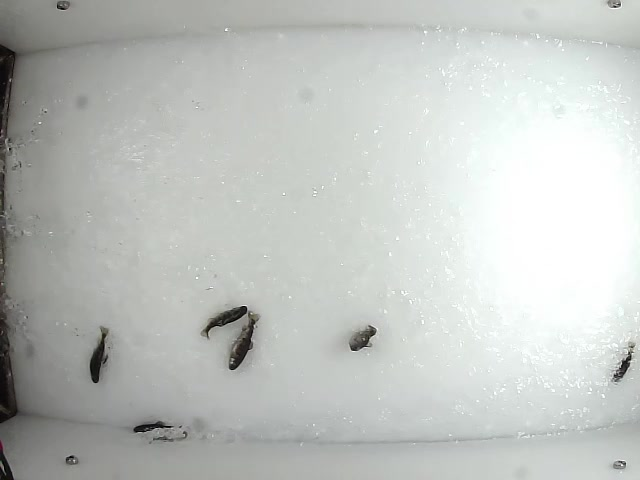fish: (225, 309, 264, 371), (199, 305, 249, 341), (87, 324, 112, 385), (608, 339, 637, 385), (347, 323, 382, 353), (130, 419, 187, 434)
